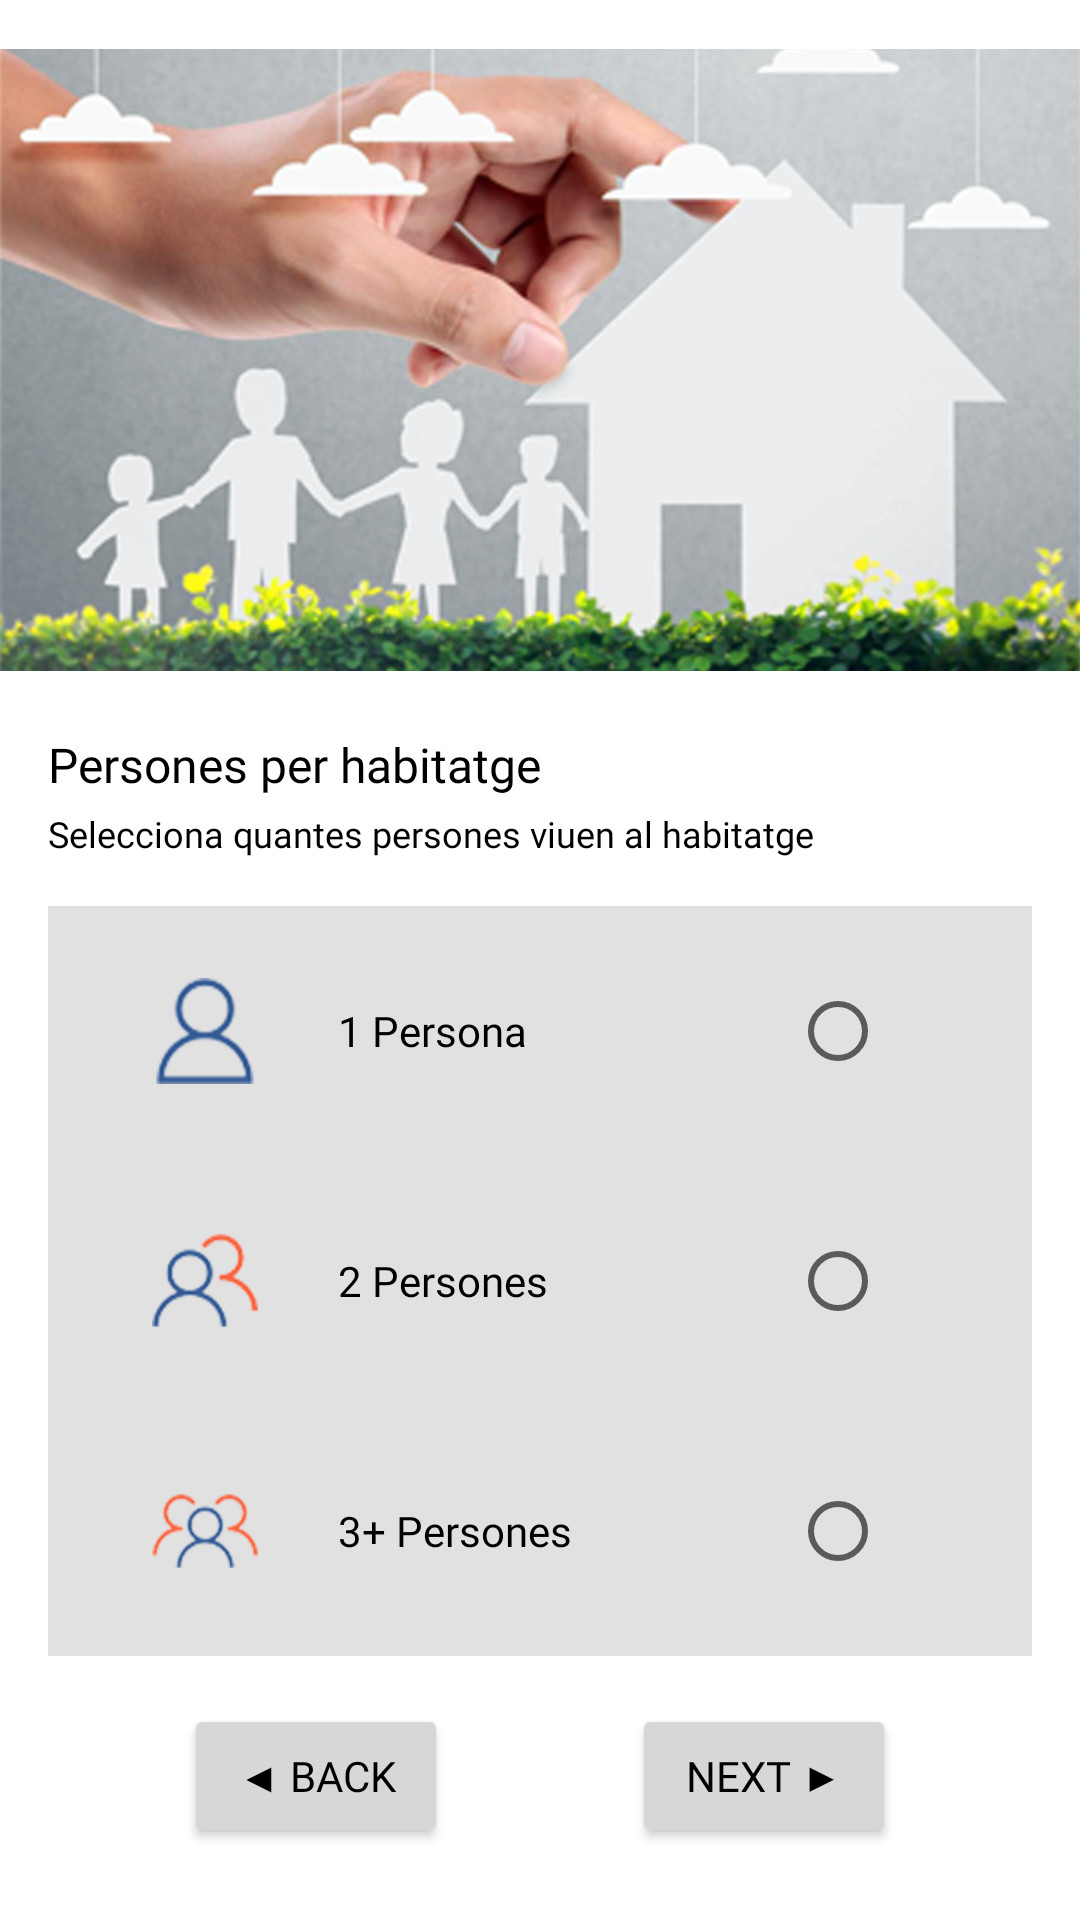

Screen size 1080w x 1920h. Icon name, then its center in pixels as [x,y]:
im one person: [205,1031]
im tree persons: [205,1531]
im two persons: [205,1280]
